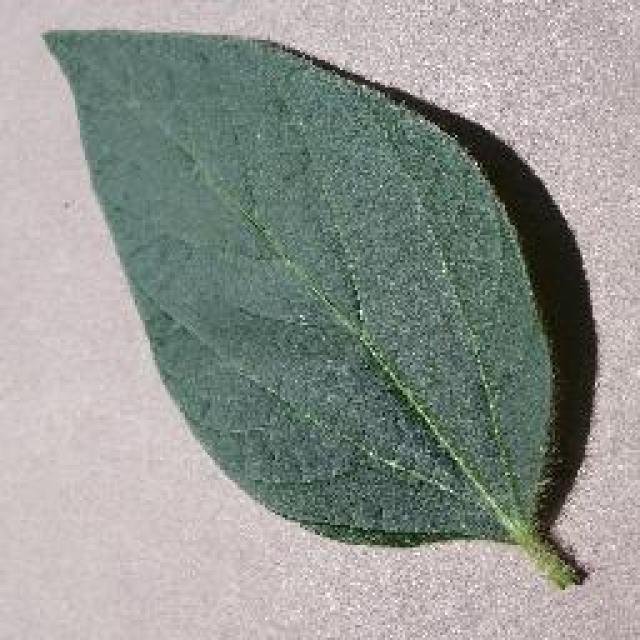Soy_healthy: (51, 12, 559, 488)
